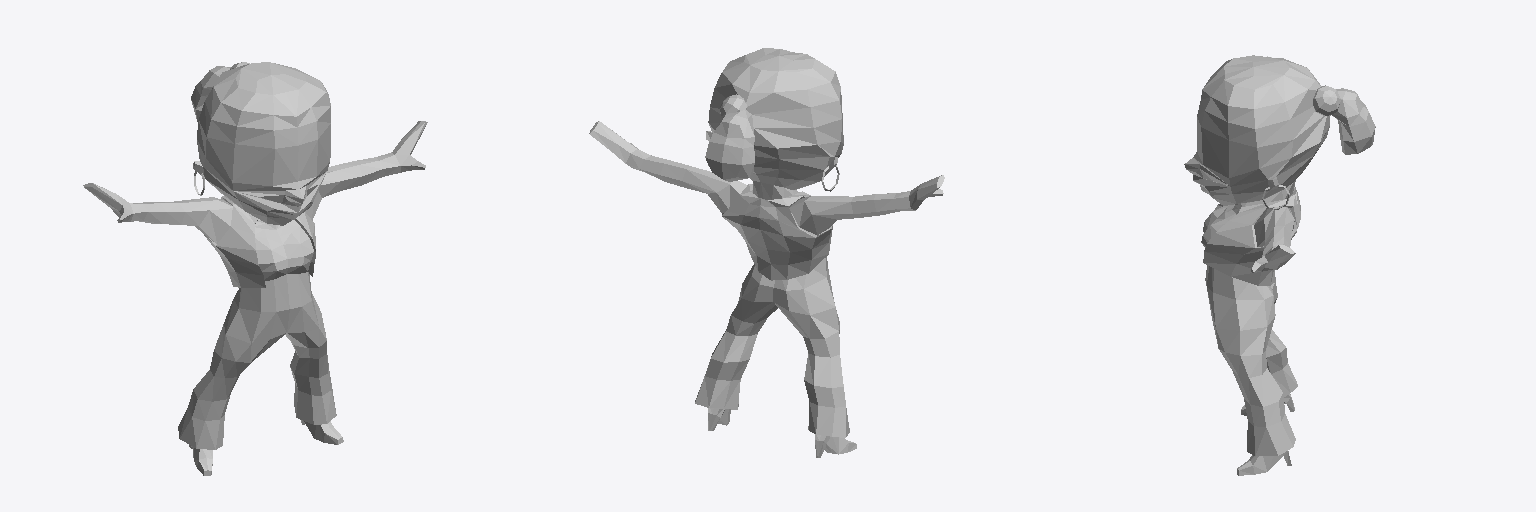
The model's file is bailarina_000002.obj.
3 views of the same model, side by side, from view 1: azimuth 30°, elevation 25°; view 2: azimuth 150°, elevation 25°; view 3: azimuth 270°, elevation 25° (orthographic).
Parts seen in each view (by area): view 1: bAilarina:Mesh; view 2: bAilarina:Mesh; view 3: bAilarina:Mesh.
Part boxes in pixels (bbox=[...]): bAilarina:Mesh: bbox=[83, 62, 427, 475]; bAilarina:Mesh: bbox=[589, 48, 944, 457]; bAilarina:Mesh: bbox=[1184, 55, 1375, 475].
Bounding box in the file's own units: 16.11 × 16.93 × 7.73.